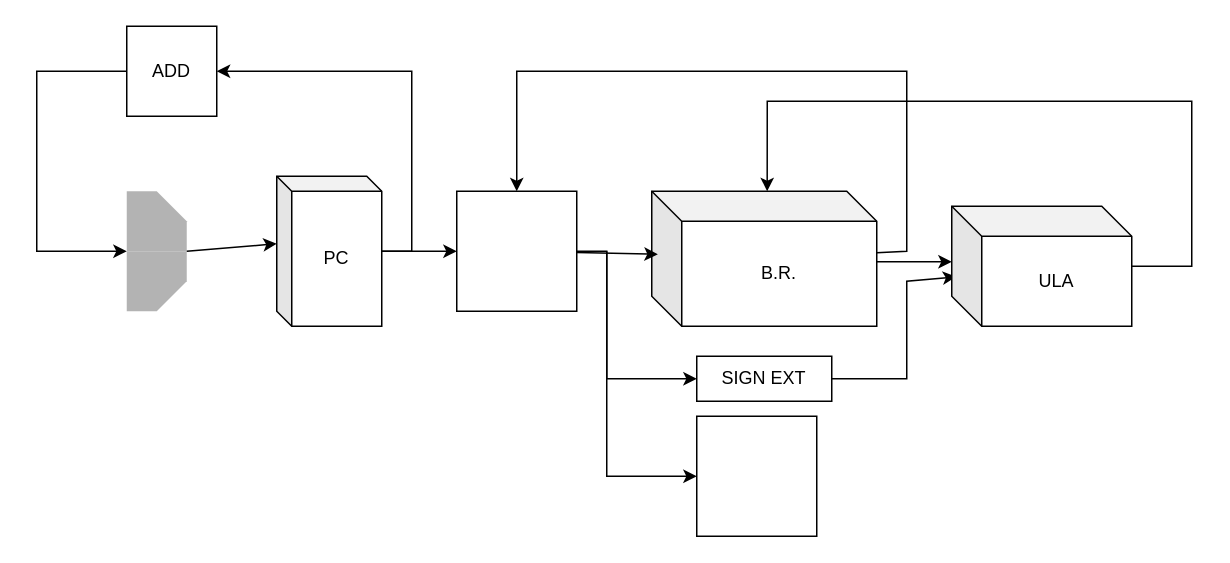
The diagram is 1230 pixels wide and 563 high, and some of its shapes have lost their labels. The centre of each missing label's shape, as x and y in pixels:
"RAM" goes at point 516,250.
"ROM" goes at point 756,475.
